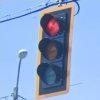traffic lights: (37, 5, 73, 97)
